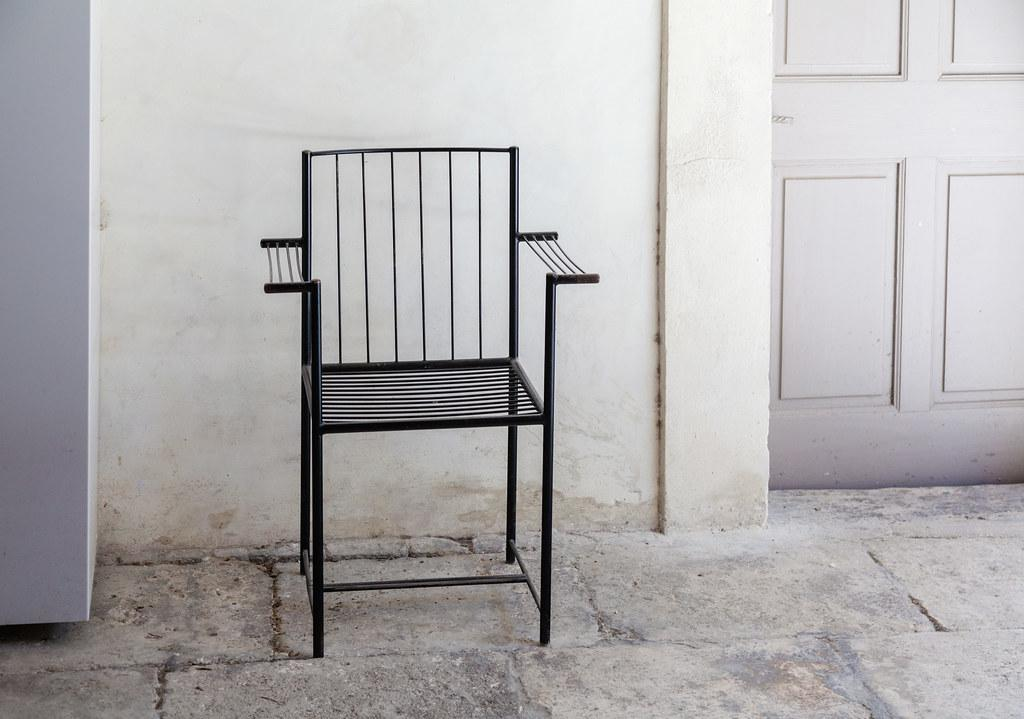chair: (260, 146, 600, 658)
